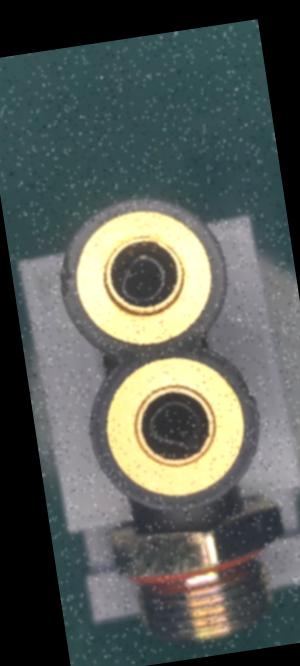bump: (235, 367, 259, 416), (53, 251, 78, 296)
off-centered: (105, 243, 179, 311), (140, 391, 208, 458)
